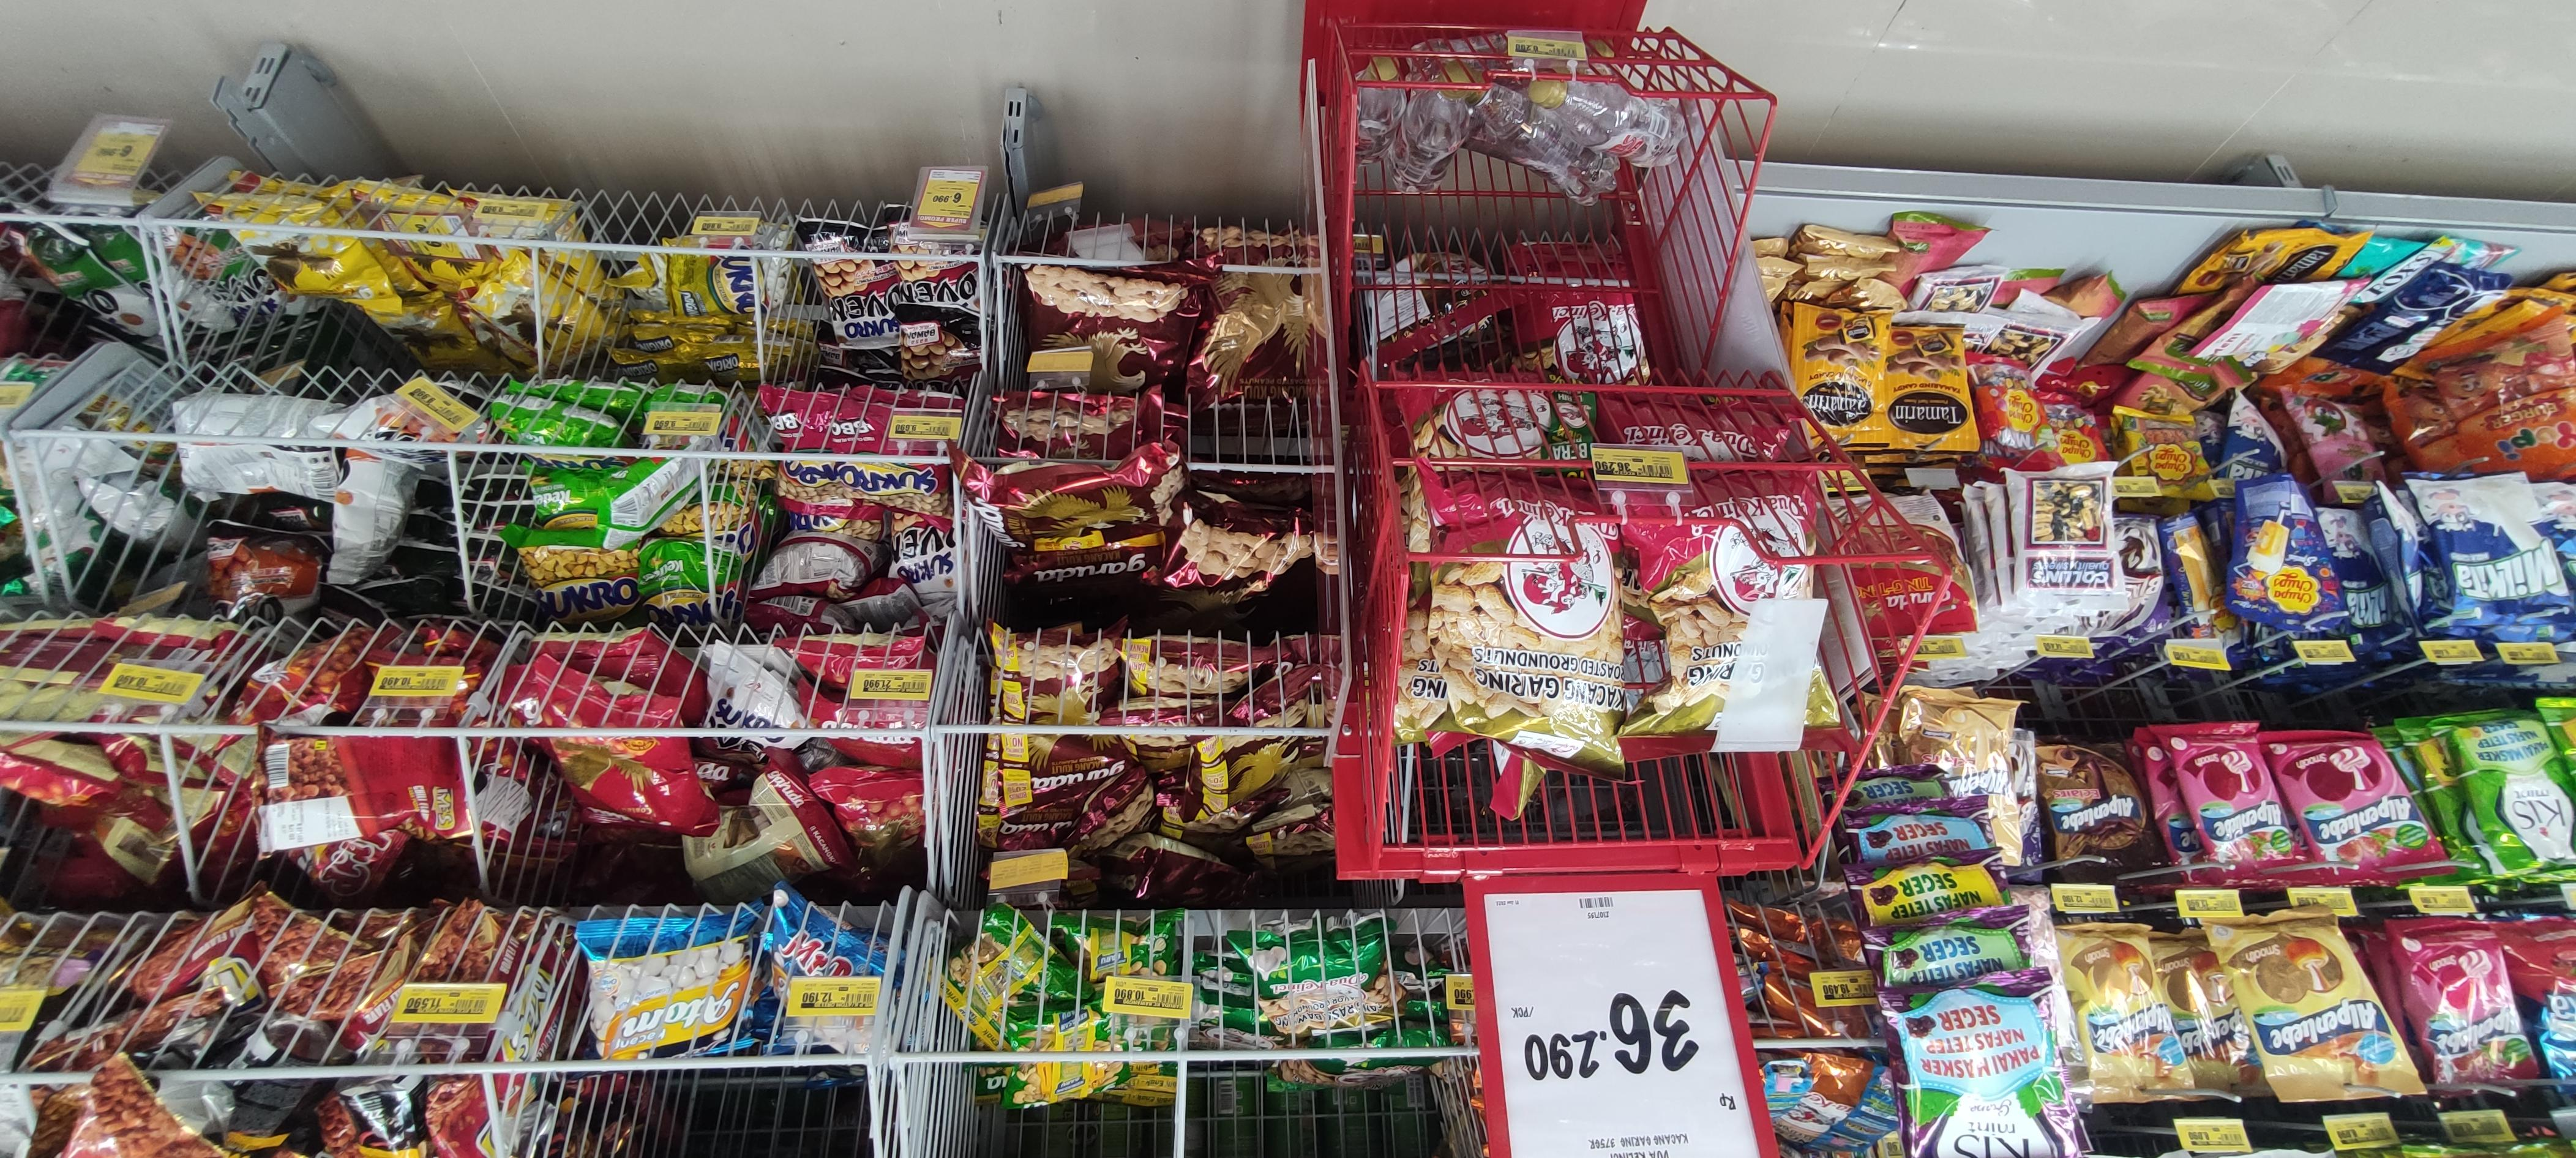90101112103100: (982, 624, 1127, 803)
KacangGaringDuaKelinci: (1431, 480, 1621, 783)
